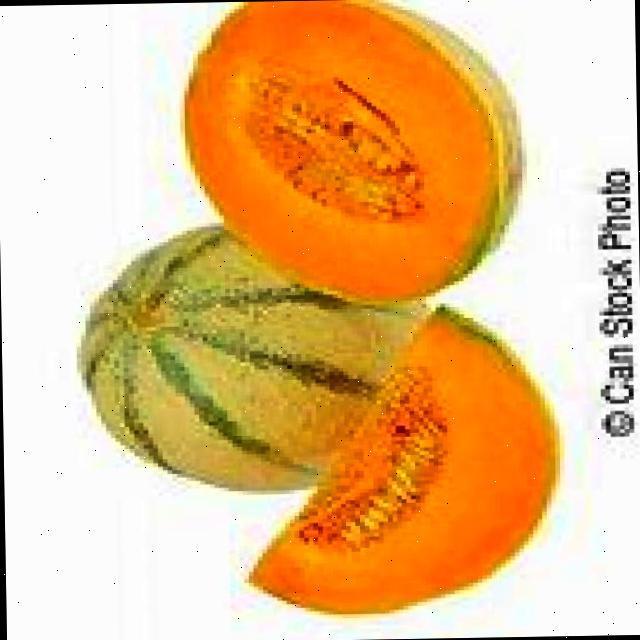Hami Melon: (177, 0, 522, 312), (71, 216, 443, 498), (235, 301, 562, 618)
